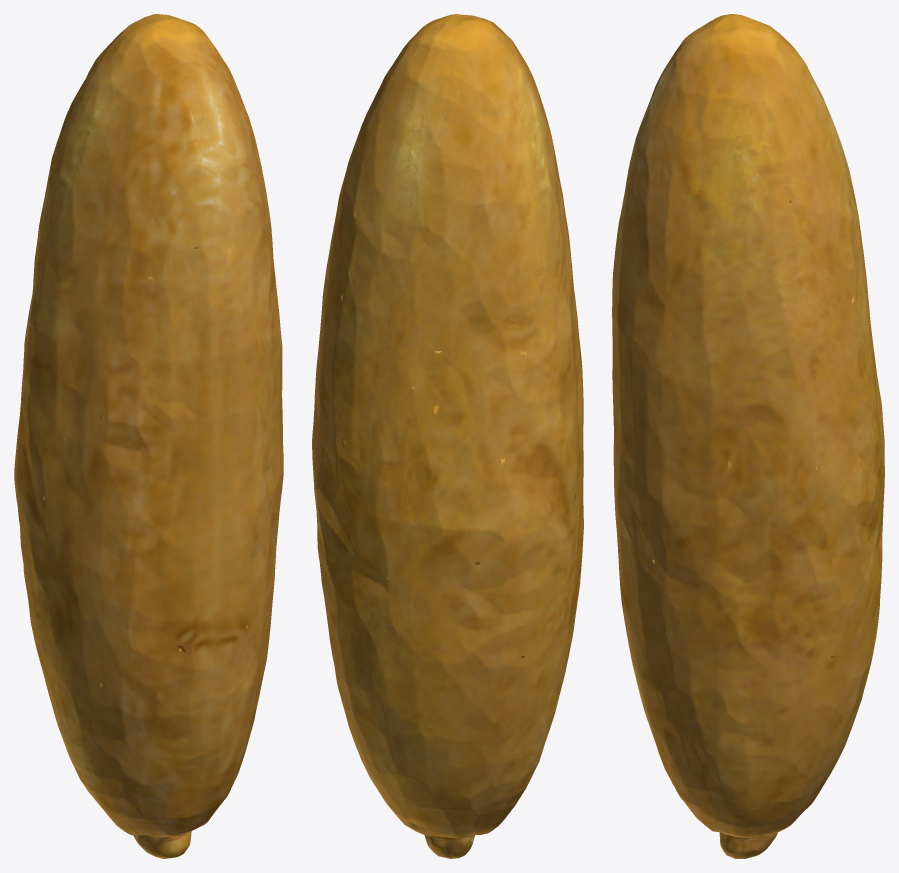
The model's file is giardia-duodenalis_H.glb.
The picture shows the model from 3 angles, left to right: view 1: azimuth 30°, elevation 25°; view 2: azimuth 150°, elevation 25°; view 3: azimuth 270°, elevation 25°; orthographic projection.
Size of the model in its own units: 0.5832 by 1.99 by 0.5917.
1 material, 1 textured.
